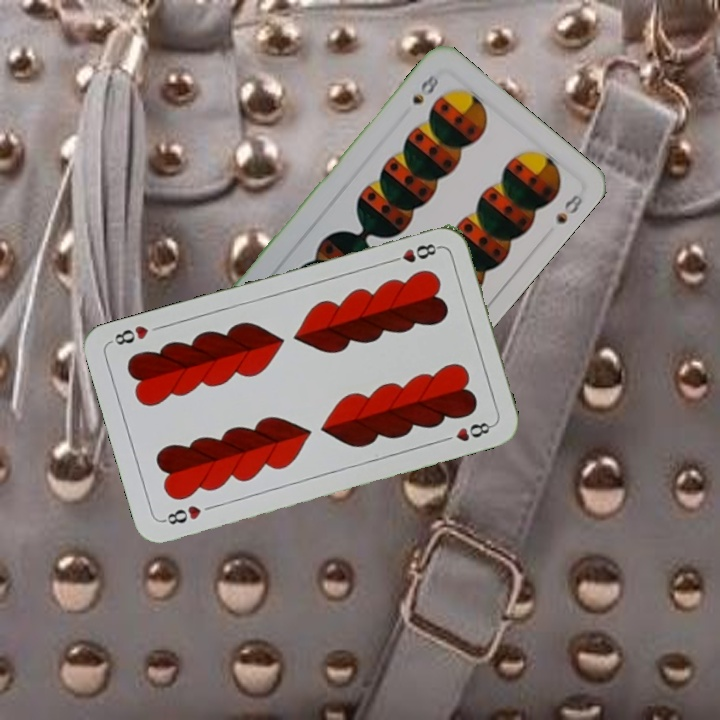H8: (385, 239, 443, 266), (159, 501, 204, 528)
S8: (408, 70, 445, 107)
